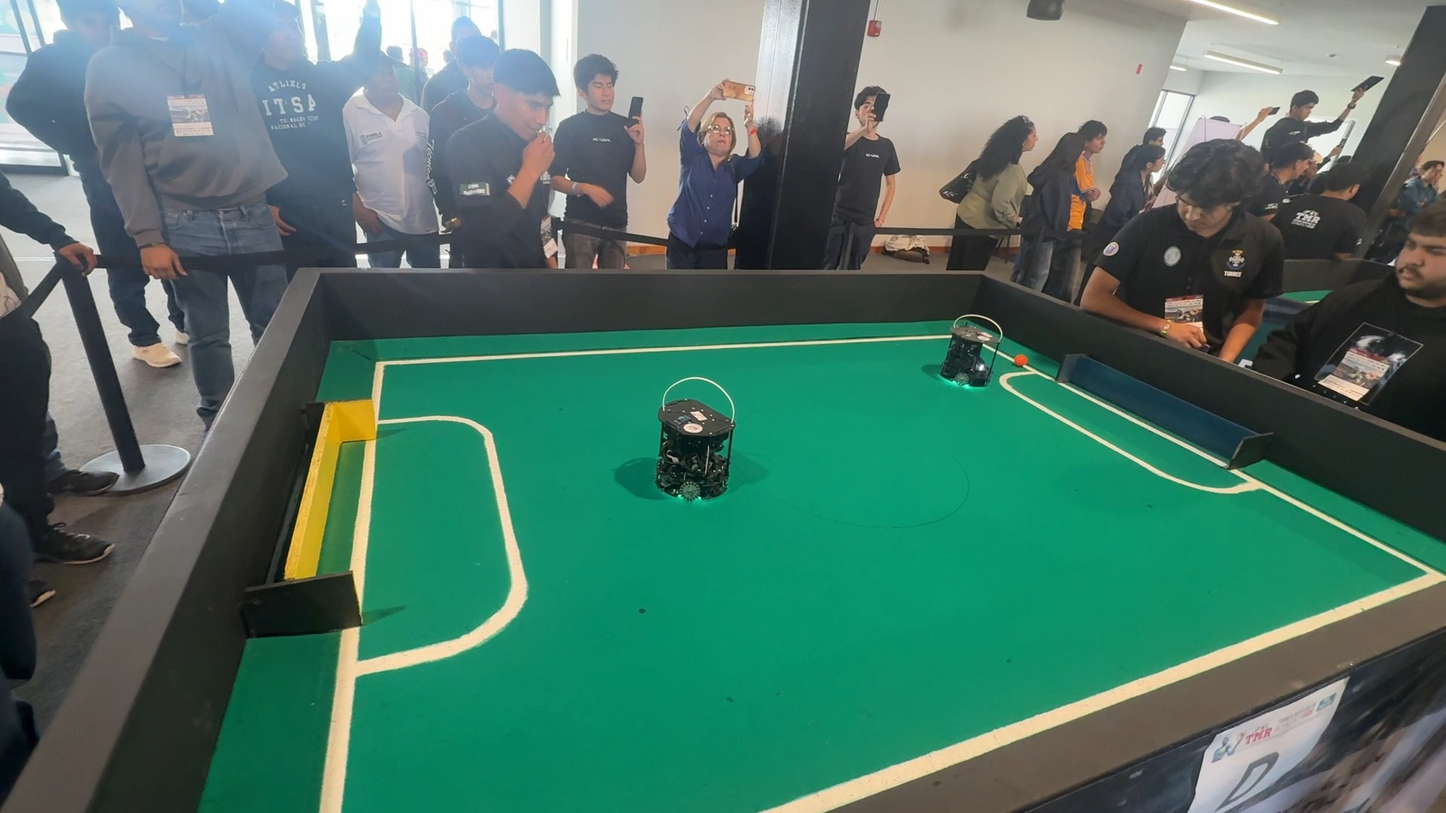Robot: (627, 387, 778, 512), (918, 314, 1019, 402)
